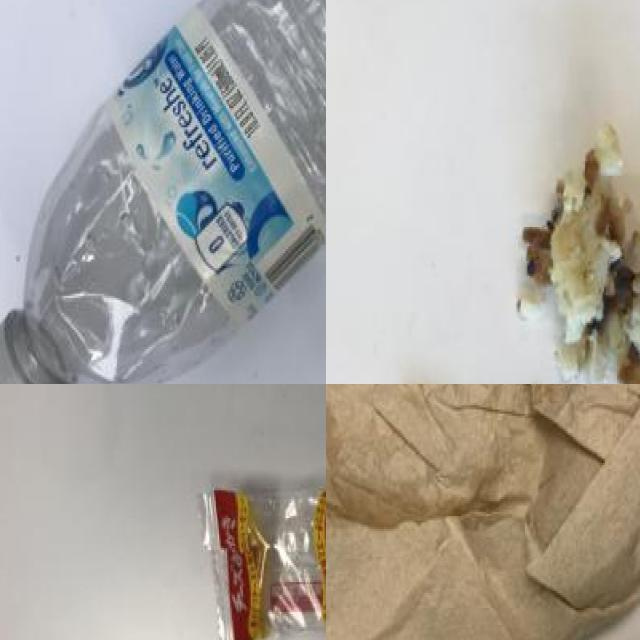compost: (521, 117, 640, 384)
plastic: (0, 0, 326, 384)
trash: (326, 384, 640, 640), (183, 461, 326, 640)
